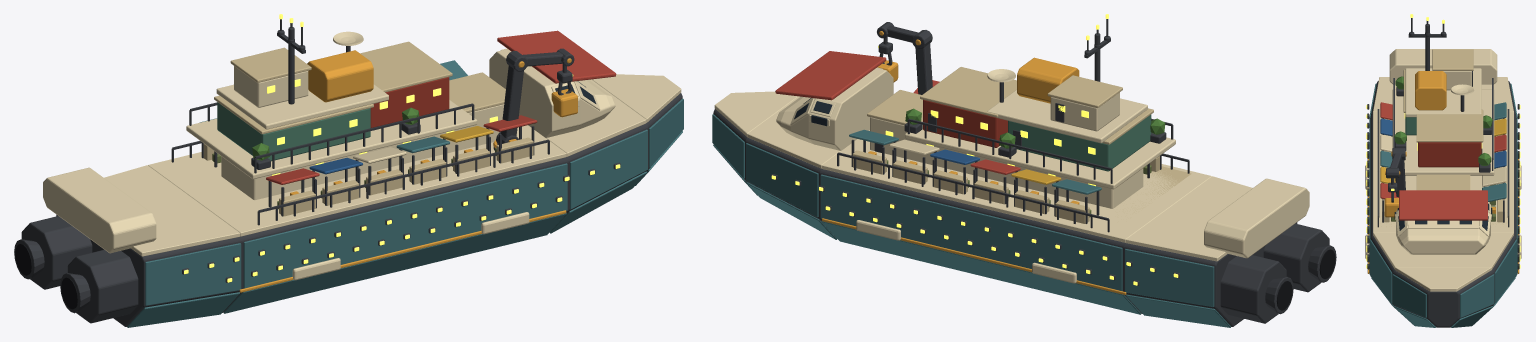
The model's file is liner.glb.
3 renders of one model, left to right at view 1: azimuth 30°, elevation 25°; view 2: azimuth 150°, elevation 25°; view 3: azimuth 270°, elevation 25°, orthographic. The views are drawn at different scales.
Parts seen in each view (by area): view 1: hull body, decks body, drive body, crane body, crane crate; view 2: hull body, decks body, drive body, crane body; view 3: decks body, hull body, crane body, crane crate.
Part boxes in pixels (box(x1,y1,x2,y2)): hull body: box(56, 74, 683, 327); decks body: box(43, 19, 616, 253); drive body: box(14, 216, 138, 323); crane body: box(493, 48, 574, 150); crane crate: box(551, 89, 577, 117); hull body: box(712, 91, 1297, 327); decks body: box(775, 19, 1309, 258); drive body: box(1220, 223, 1336, 323); crane body: box(877, 22, 932, 94); decks body: box(1377, 18, 1509, 254); hull body: box(1365, 77, 1521, 327); crane body: box(1385, 147, 1406, 202); crane crate: box(1384, 198, 1398, 217).
Bounding box in the file's own units: 17.27 × 6.99 × 4.92.
